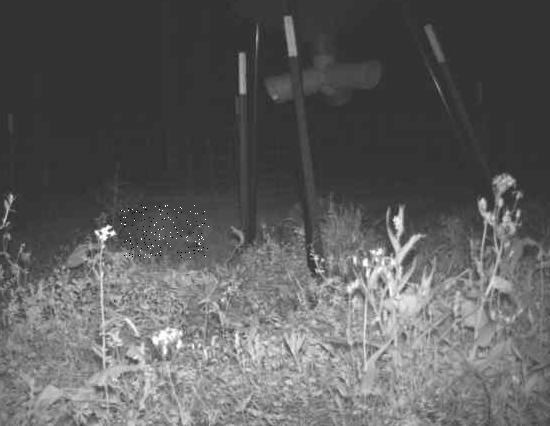Raccoon: (120, 205, 209, 258)
